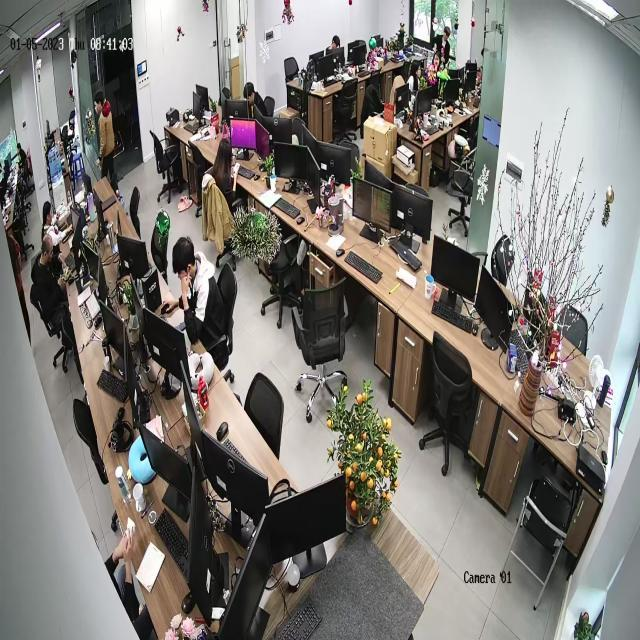person: (159, 236, 234, 376), (31, 237, 77, 338), (207, 130, 245, 212), (94, 84, 120, 189), (42, 201, 74, 255), (240, 79, 270, 124), (431, 21, 453, 69), (406, 57, 426, 99)
